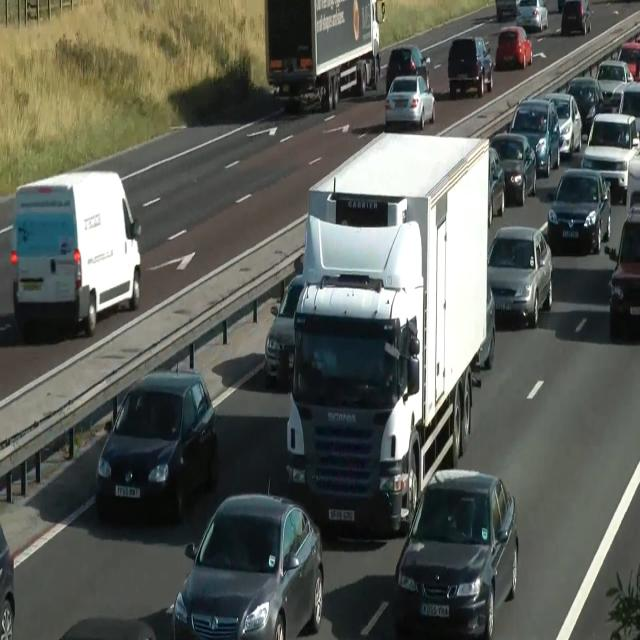bus: (172, 488, 324, 639), (394, 468, 518, 639), (95, 366, 217, 522), (487, 225, 553, 328), (547, 167, 611, 254), (580, 112, 640, 204), (264, 273, 304, 387), (608, 202, 640, 336), (489, 132, 537, 206), (384, 74, 436, 130), (541, 92, 583, 156), (565, 76, 603, 136), (58, 616, 157, 639), (386, 44, 430, 95), (595, 59, 635, 110), (474, 282, 496, 370), (0, 524, 15, 639), (495, 25, 533, 69), (487, 146, 505, 228), (618, 81, 640, 138), (561, 0, 591, 35), (516, 0, 548, 32), (616, 40, 640, 81), (626, 143, 640, 213), (495, 0, 517, 22), (557, 0, 566, 13)
jeep: (11, 169, 141, 337), (508, 97, 560, 177), (447, 34, 493, 98)
minibus: (285, 131, 493, 536), (264, 0, 386, 112)
